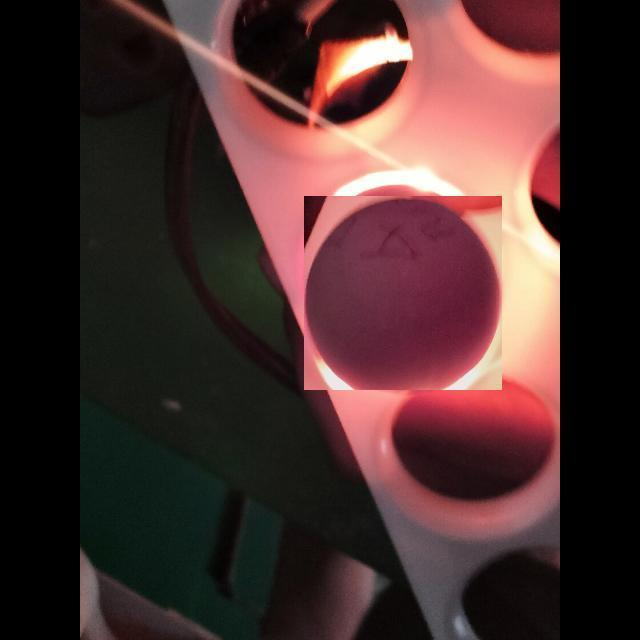A - Good: (306, 197, 500, 393)
